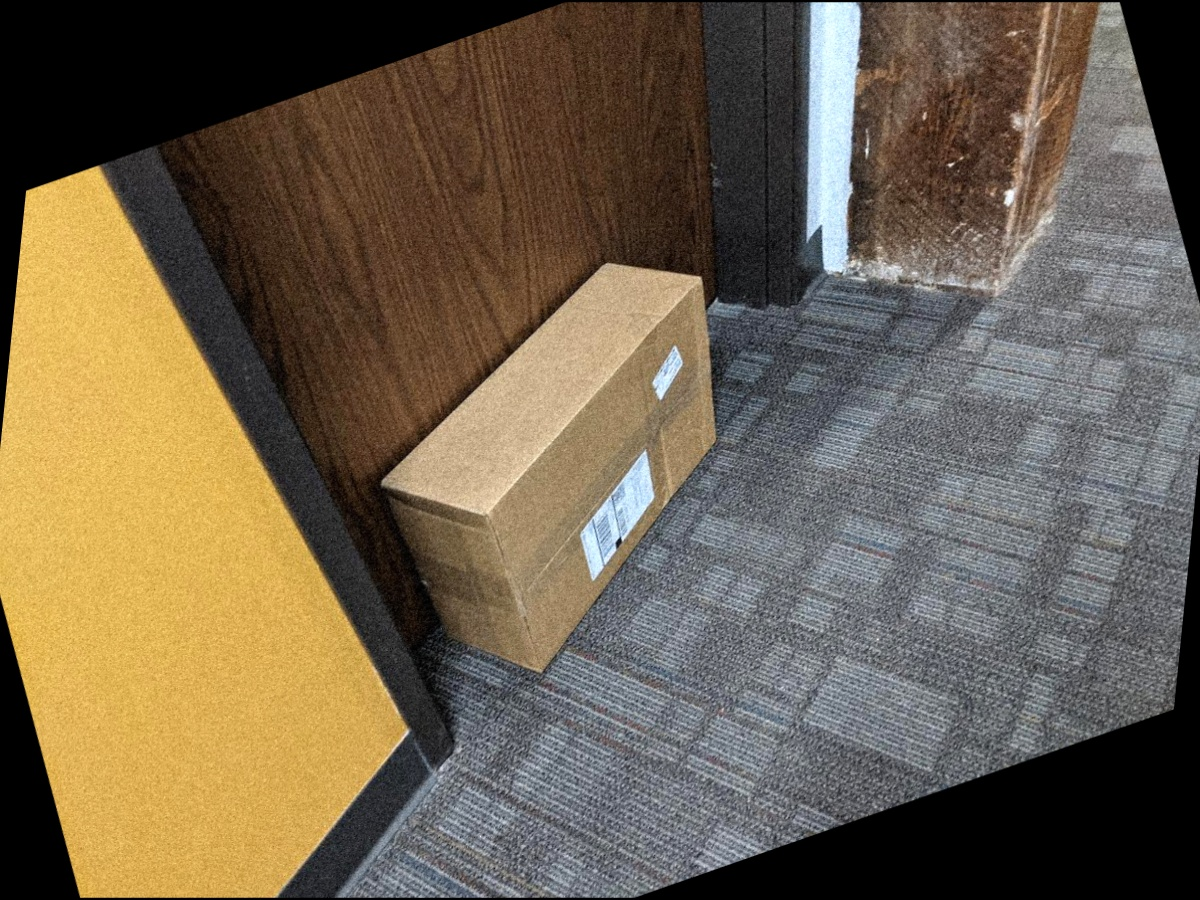good-parcel: (354, 256, 733, 679)
